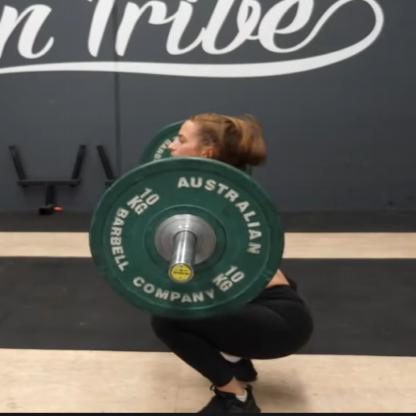Barbell: (86, 150, 291, 325)
